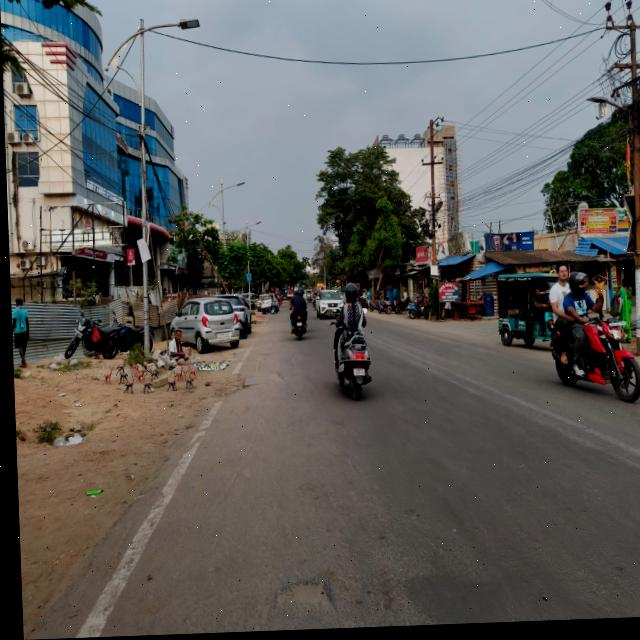bike: (541, 313, 640, 413), (60, 302, 121, 370), (327, 319, 372, 403), (110, 312, 155, 356), (403, 298, 429, 324), (291, 312, 306, 344), (374, 299, 391, 319), (392, 300, 409, 318), (366, 300, 376, 316), (268, 300, 276, 318)
car: (167, 296, 239, 356), (226, 291, 254, 339), (312, 290, 341, 323), (258, 295, 277, 318)
